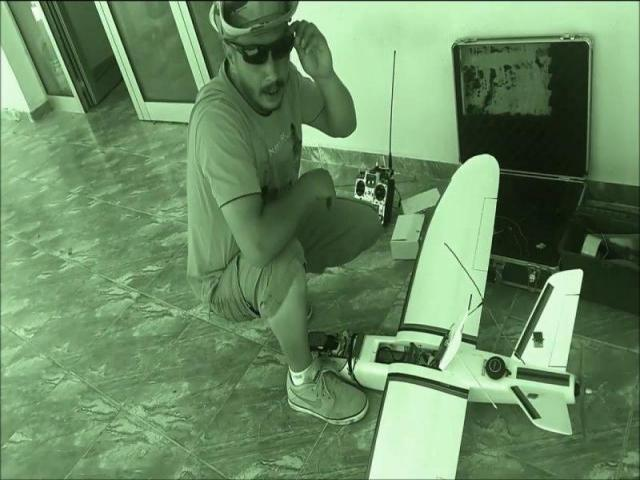hedef: (316, 150, 586, 480)
